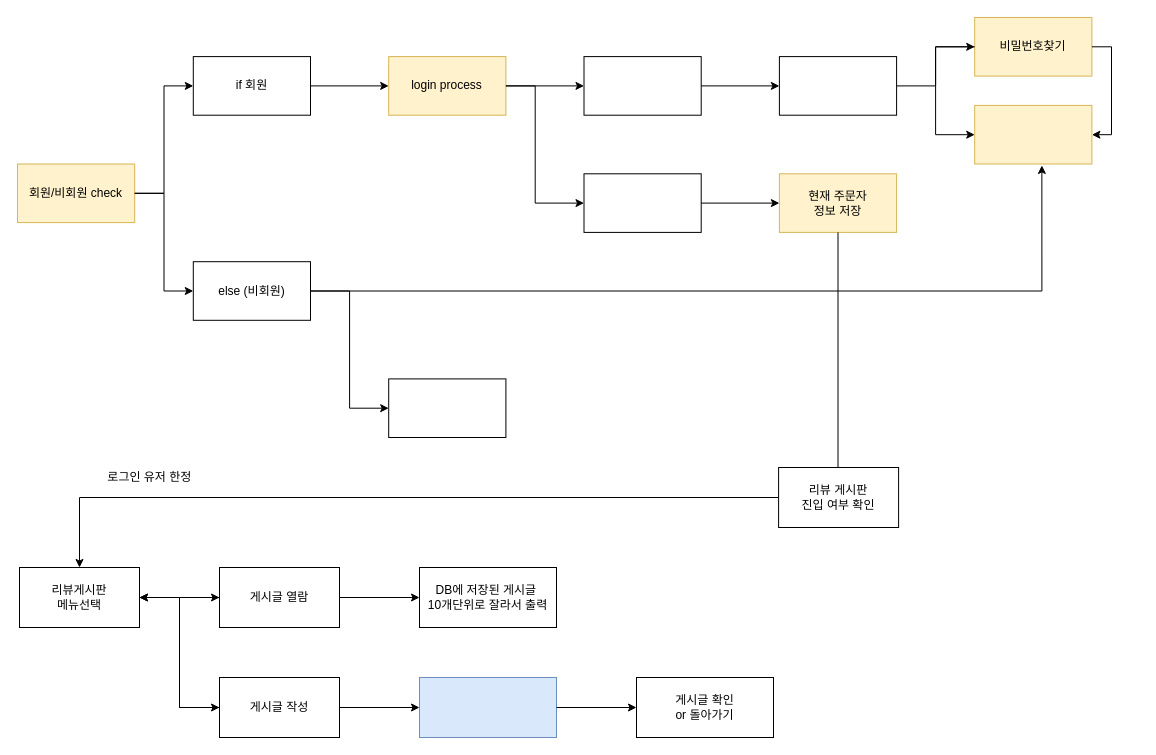
This 1156x755 diagram has some shape labels left out. Each missing label, with the box of its shape:
else (success): (583, 173, 701, 232)
if fail: (583, 56, 701, 115)
signup process: (974, 104, 1092, 164)
비회원 구매용 정보저장 -> guest로 임시 저장: (388, 378, 506, 438)
오류메시지: (778, 56, 897, 115)
저장 process: (418, 676, 556, 738)
